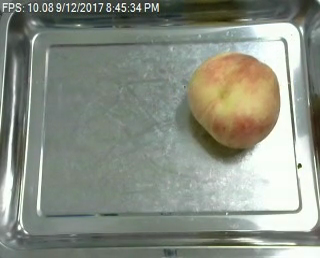Peach: (188, 50, 281, 149)
